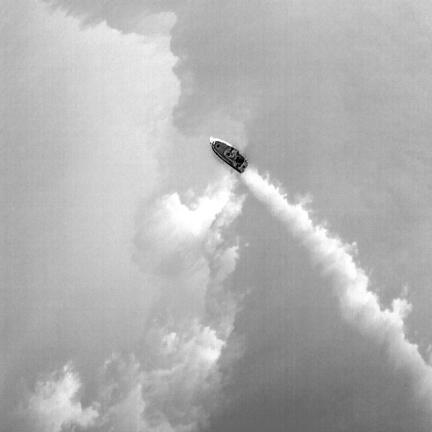flukeprints: (161, 181, 232, 236)
